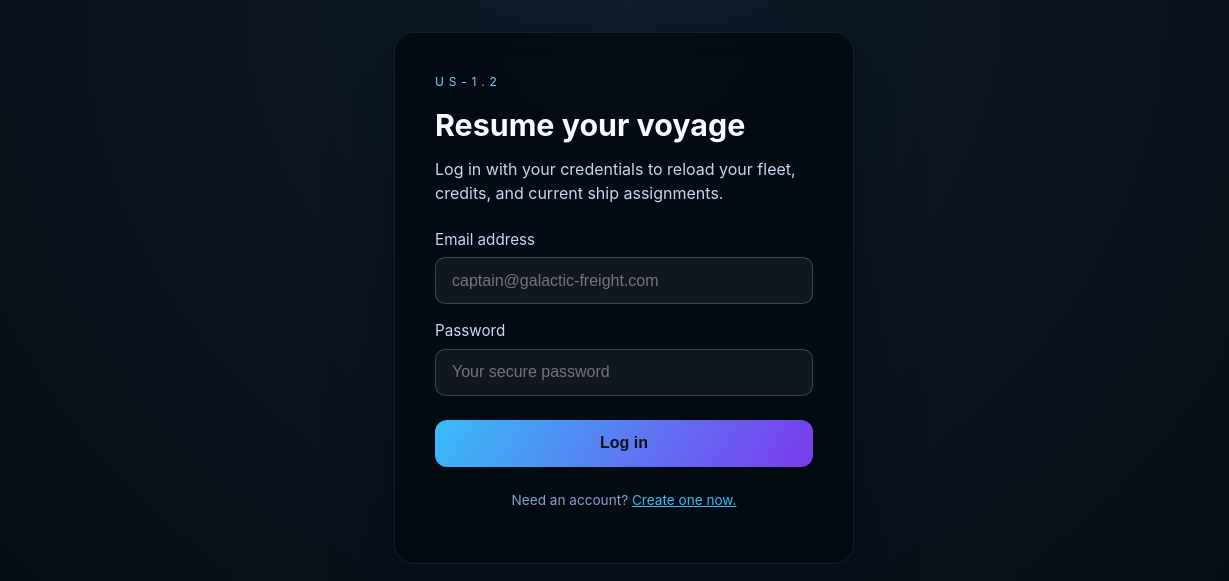
Scenario: Login flow › shows profile details when login succeeds
Type "pilot@example.com" into the field labelled "Email address".
click(624, 281); type("pilot@example.com")  # box [435,257,813,304]
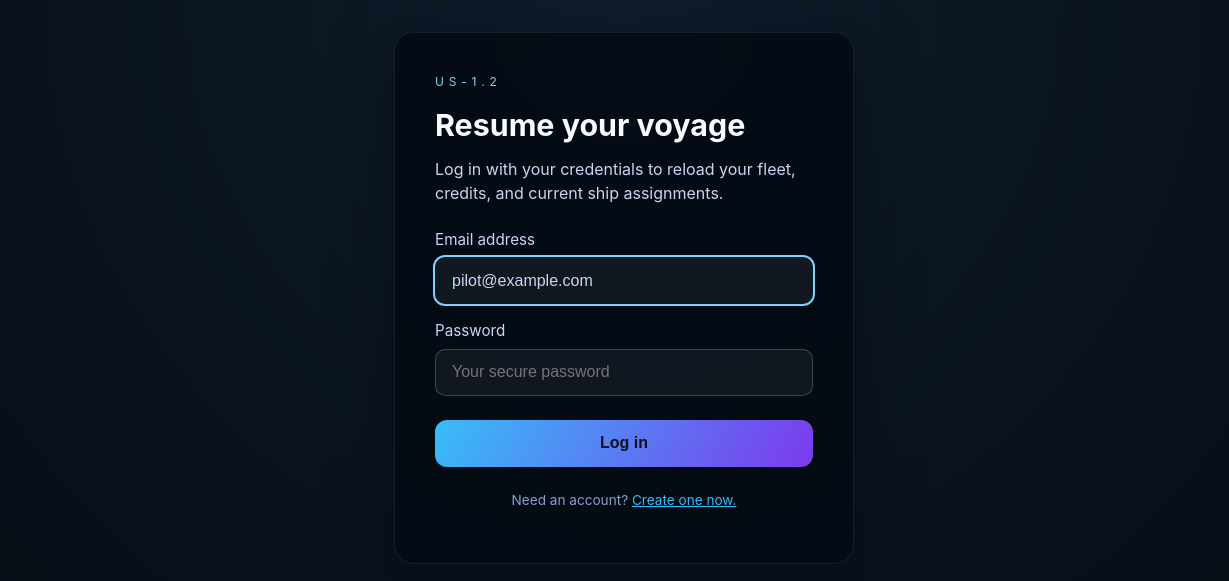
Type "secretpass" into the password field labelled "Password".
click(624, 372); type("secretpass")  # box [435,349,813,396]
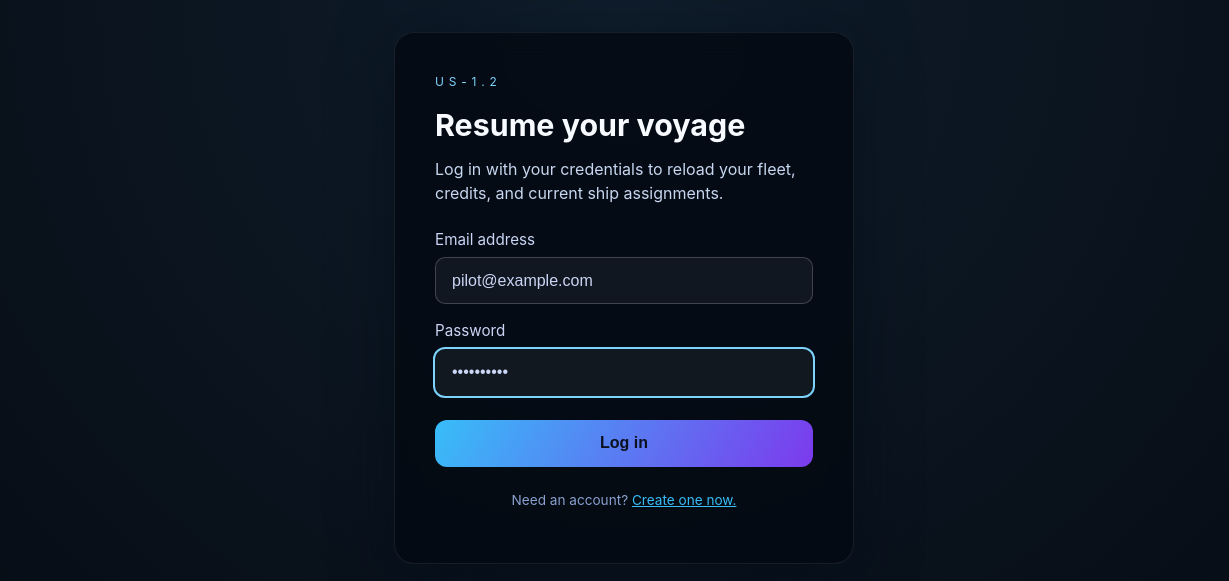
Click the button "Log in".
click(624, 443)  # box [435,420,813,467]
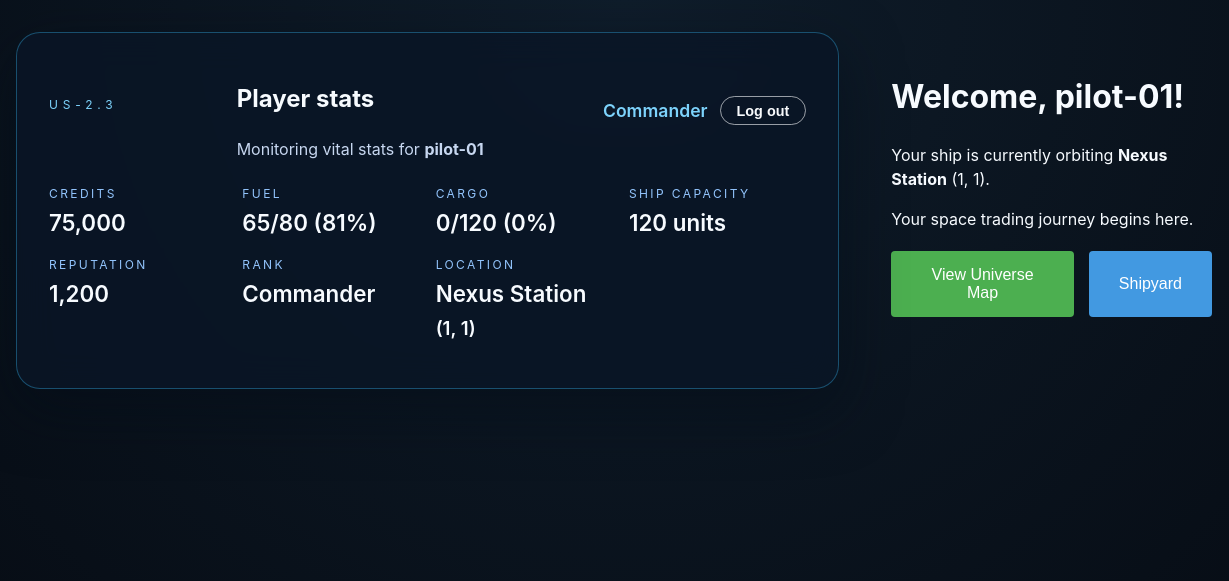
Now the element "Player stats" shows "75,000", box [49,209,126,236]
Now the element "Player stats" shows "65/80", box [242,209,377,236]
Now the element "Player stats" shows "(81%", box [242,209,377,236]
